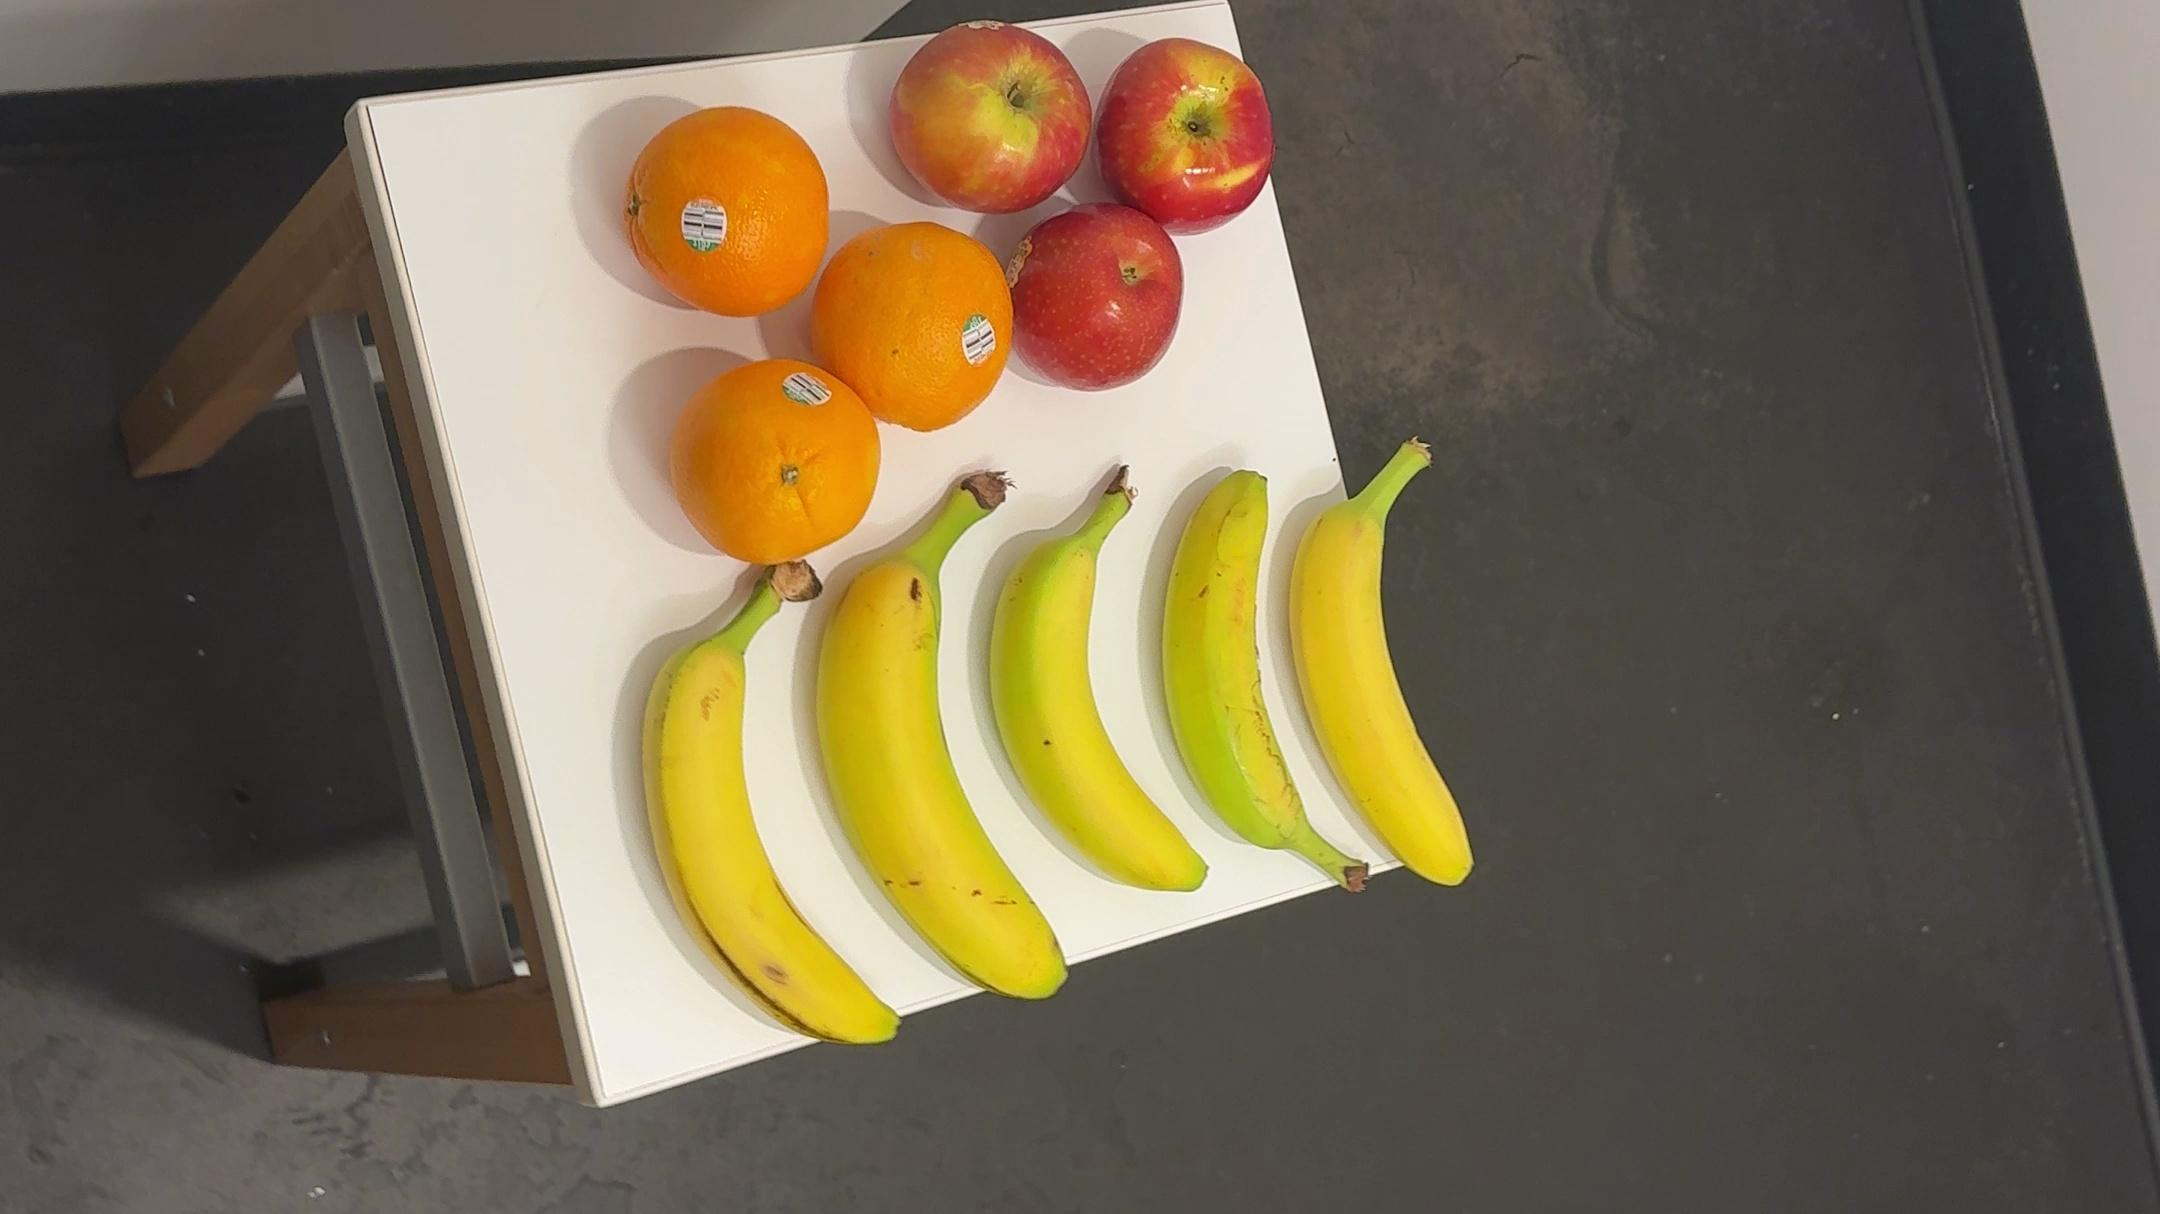apple: (893, 16, 1090, 218), (1090, 33, 1277, 236), (1019, 211, 1185, 395)
banana: (817, 465, 1084, 1008), (635, 560, 909, 1057), (1283, 423, 1500, 910), (992, 450, 1211, 925), (1159, 451, 1380, 916)
orange: (617, 99, 820, 329), (809, 214, 1015, 439), (674, 355, 880, 570)
